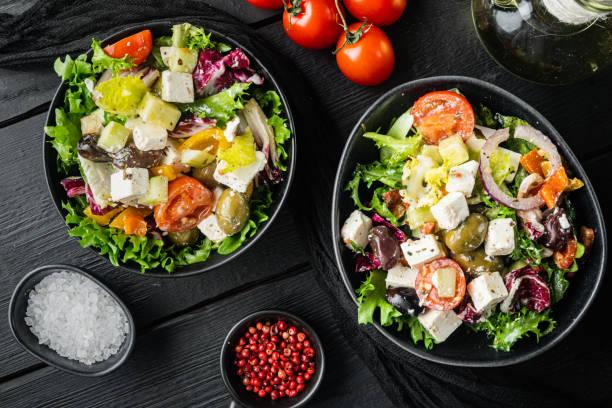Braised Crucian Carp: (330, 75, 600, 366), (45, 20, 292, 278)
